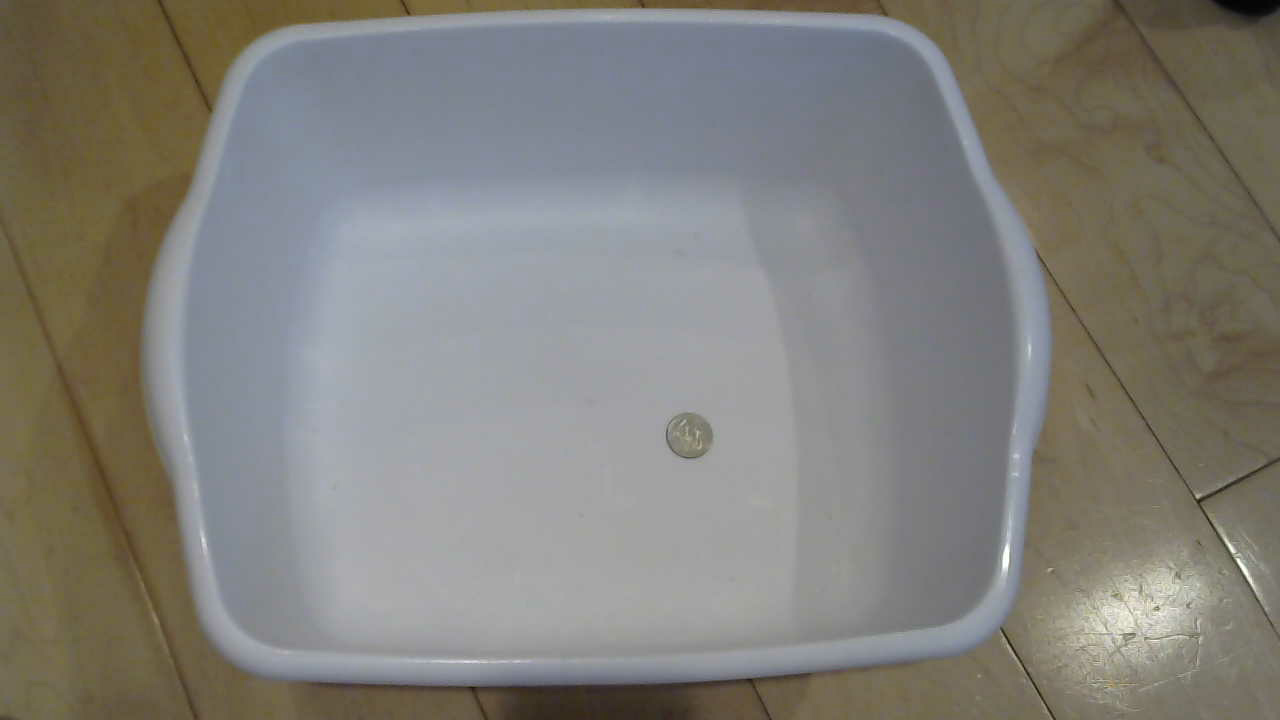coin: (657, 413, 730, 473)
